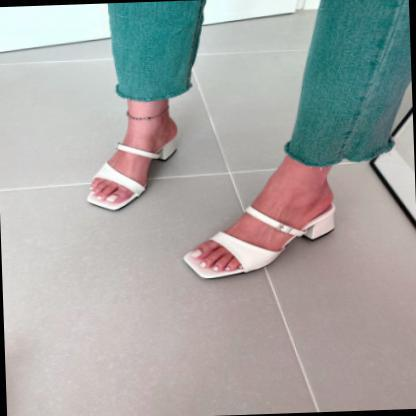no_safety-shoe: (188, 165, 379, 320), (56, 112, 233, 224)
